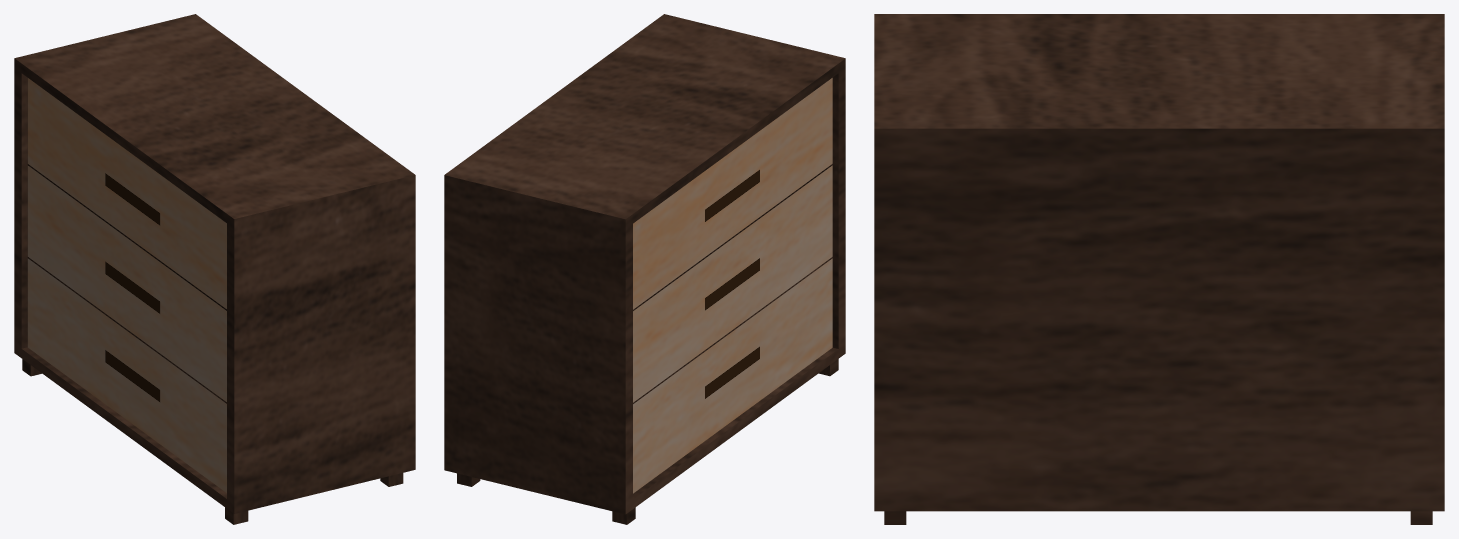
The model's file is kjar.fbx.
3 renders of one model, left to right at view 1: azimuth 30°, elevation 25°; view 2: azimuth 150°, elevation 25°; view 3: azimuth 270°, elevation 25°, orthographic. The views are drawn at different scales.
Visible parts, largest first — view 1: Cube; view 2: Cube; view 3: Cube.
Boxes of the visible parts, <box> form: Cube: <box>14,14,415,524</box>; Cube: <box>444,14,845,524</box>; Cube: <box>874,14,1444,524</box>.
Bounding box in the file's own units: 281 × 459 × 591.
Materials: 1 (1 with a texture image).
